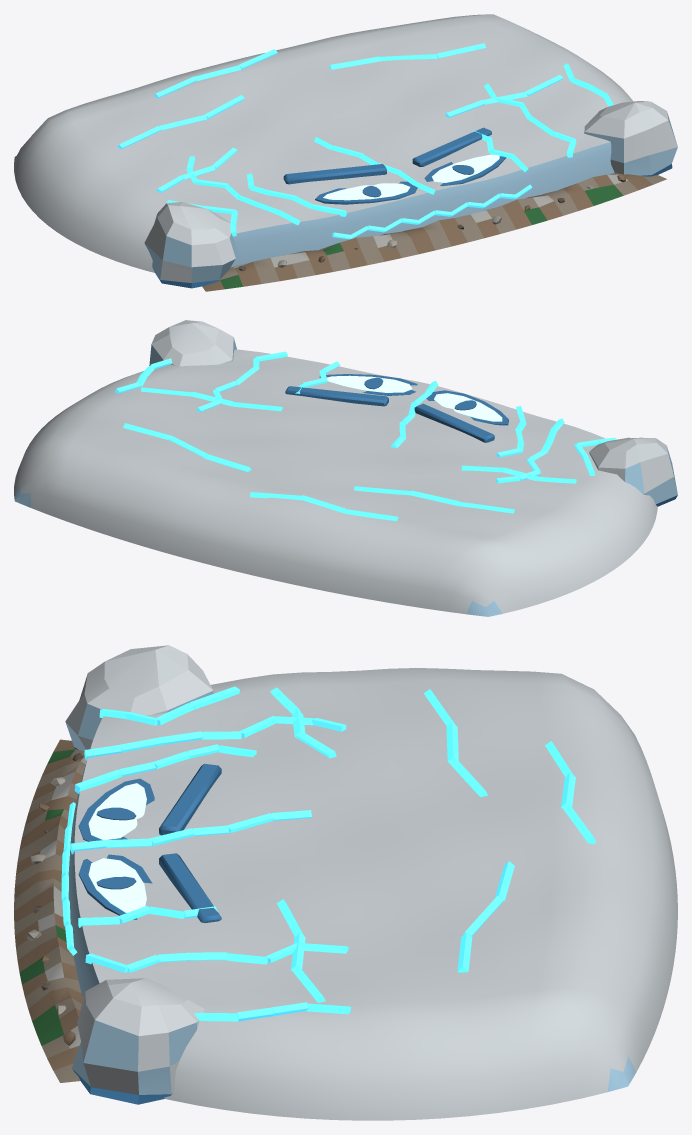
File: ice_sheet.glb
3 views of the same model, one above another, from view 1: azimuth 30°, elevation 25°; view 2: azimuth 150°, elevation 25°; view 3: azimuth 270°, elevation 25° (orthographic). The views are drawn at different scales.
Visible parts, largest first — view 1: body, calving_l, calving_r; view 2: body, calving_l, calving_r; view 3: body, calving_r, calving_l.
Part boxes in pixels (x1,y1,x2,y2): body: (14,14,666,291); calving_l: (144,202,237,288); calving_r: (584,101,677,176); body: (14,349,657,616); calving_l: (589,437,677,506); calving_r: (149,320,236,366); body: (14,668,677,1120); calving_r: (72,978,204,1104); calving_l: (65,645,213,751).
Bounding box in the file's own units: 600 × 62.72 × 402.
